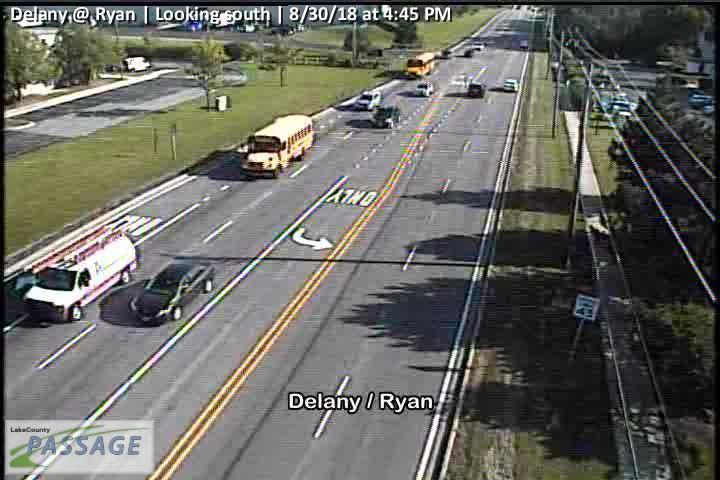Bus: (240, 113, 317, 179), (406, 49, 435, 77)
SUV: (376, 105, 401, 128), (356, 90, 381, 111), (467, 82, 487, 97)
Sedan: (129, 261, 215, 326), (415, 82, 434, 96), (503, 79, 518, 91)
Truck: (23, 227, 138, 322)
